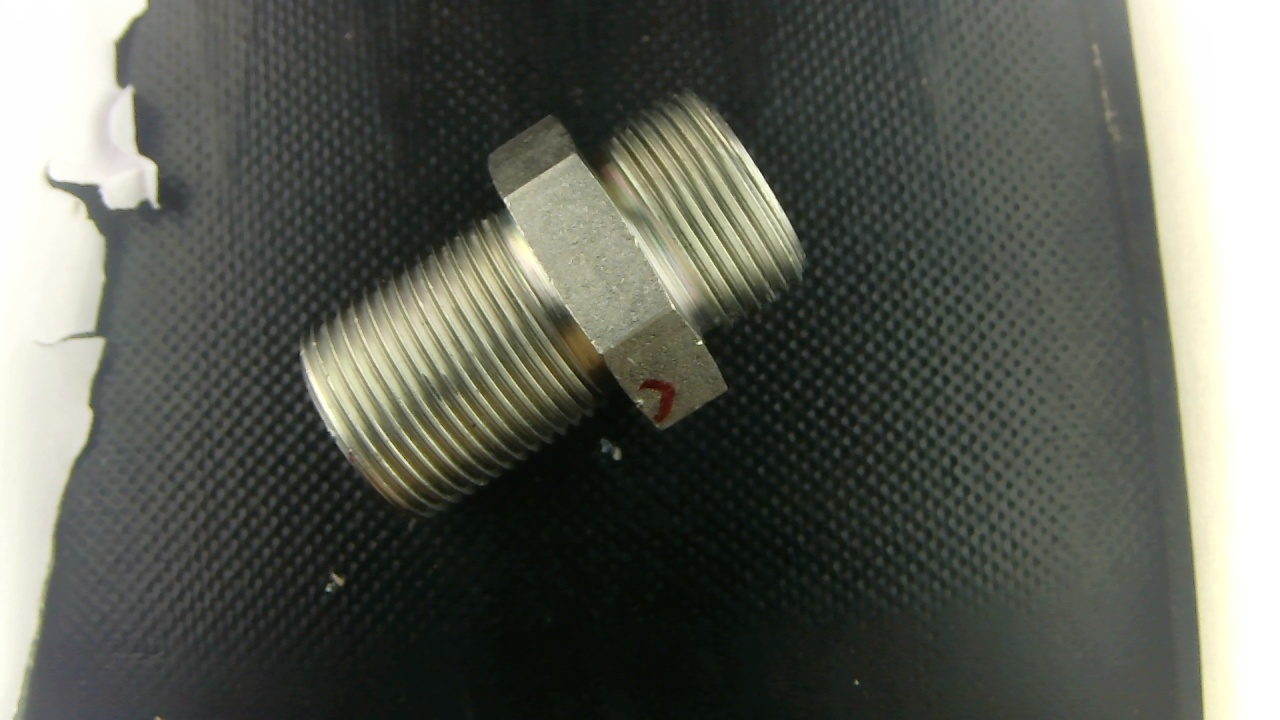SurfaceDent_Adaptor: (634, 397, 645, 410)
